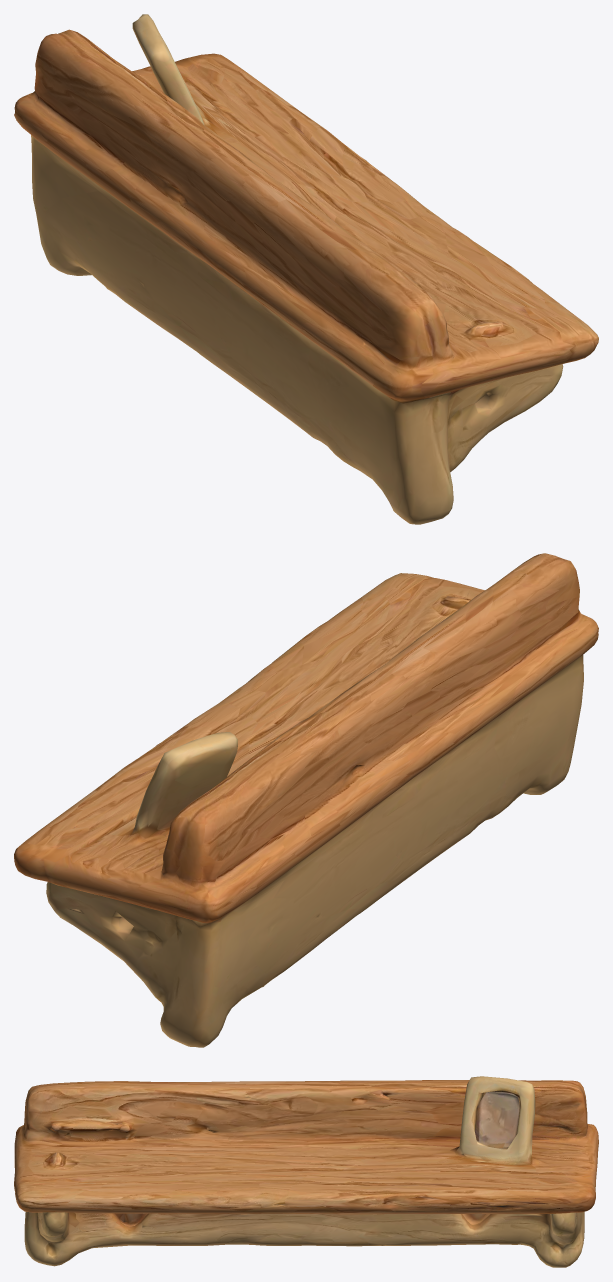
Rendered from room-wall-shelf.glb.
3 views of the same model, one above another, from view 1: azimuth 30°, elevation 25°; view 2: azimuth 150°, elevation 25°; view 3: azimuth 270°, elevation 25° (orthographic). The views are drawn at different scales.
Visible parts, largest first — view 1: tripo_node_fb4f3498-4361-4b3d-bcea-0ddc610365b7; view 2: tripo_node_fb4f3498-4361-4b3d-bcea-0ddc610365b7; view 3: tripo_node_fb4f3498-4361-4b3d-bcea-0ddc610365b7.
Part boxes in pixels (bbox=[...]): tripo_node_fb4f3498-4361-4b3d-bcea-0ddc610365b7: bbox=[14, 14, 598, 524]; tripo_node_fb4f3498-4361-4b3d-bcea-0ddc610365b7: bbox=[14, 553, 598, 1047]; tripo_node_fb4f3498-4361-4b3d-bcea-0ddc610365b7: bbox=[14, 1076, 598, 1267].
Bounding box in the file's own units: 0.3061 × 0.3648 × 0.9771.
Materials: 1 (1 with a texture image).
